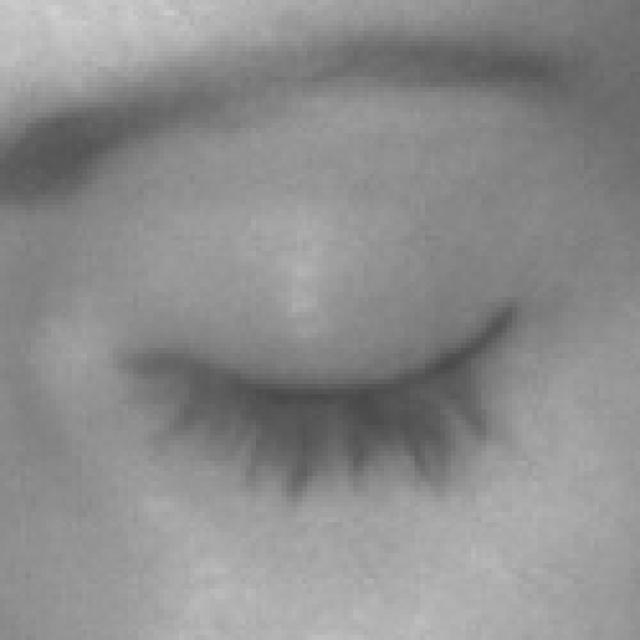close: (9, 15, 640, 596)
